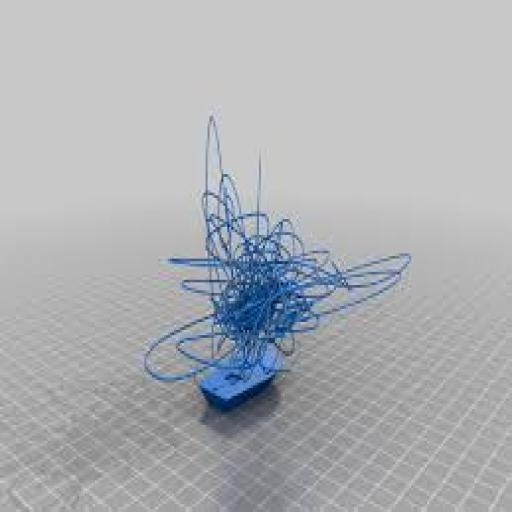spaghetti: (136, 165, 409, 357)
